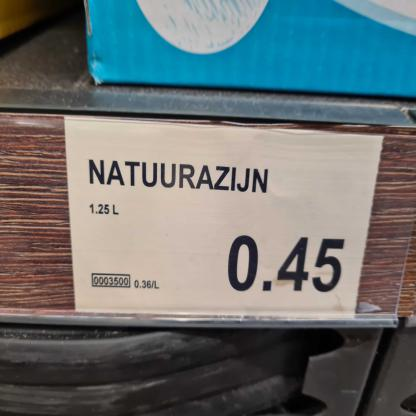prtg: (65, 119, 385, 320)
